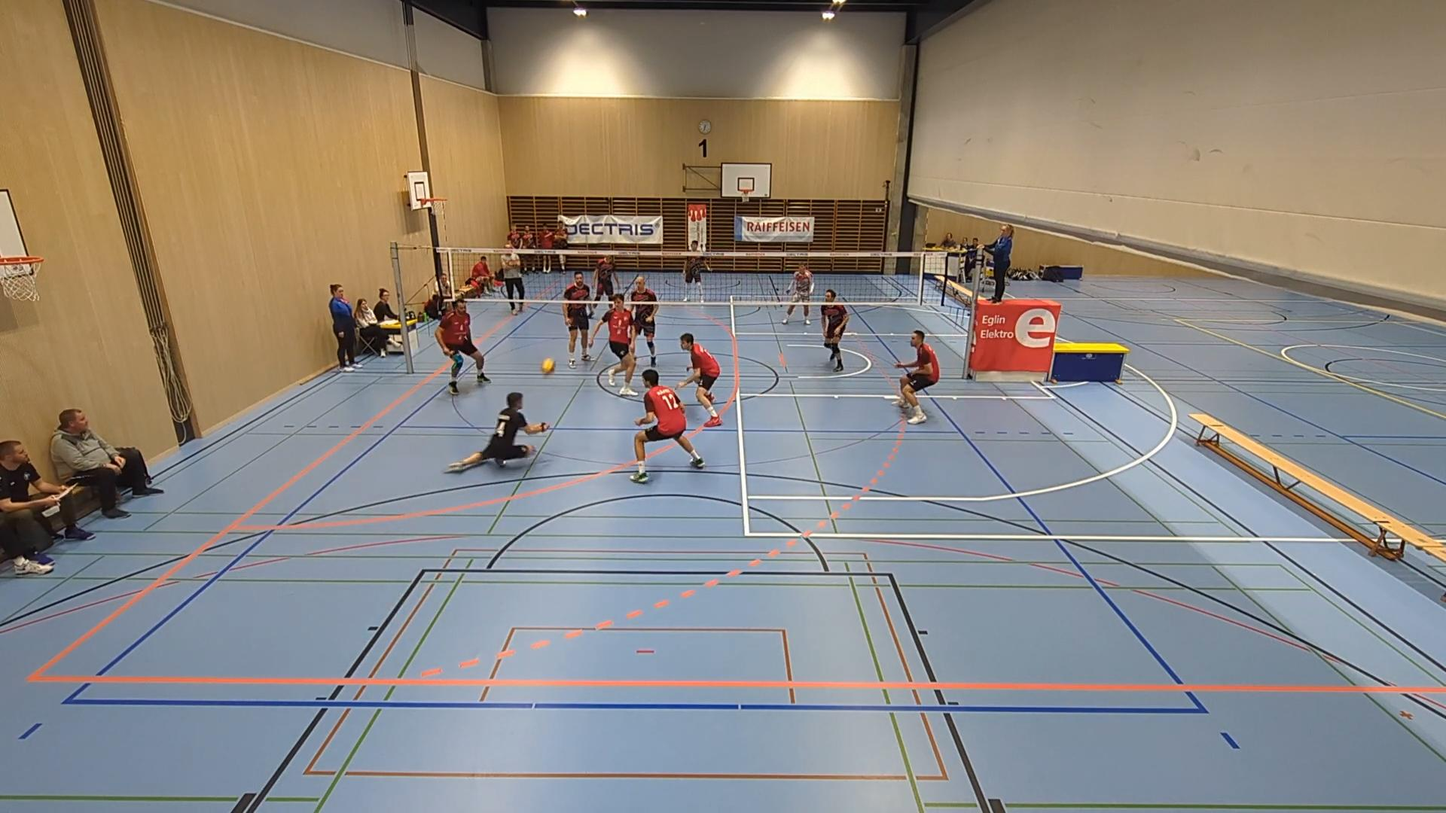Dig: (439, 390, 557, 478)
Player: (630, 370, 703, 483), (435, 300, 489, 394), (592, 294, 636, 395), (895, 330, 939, 423), (678, 333, 721, 426), (563, 271, 590, 367), (630, 276, 657, 367), (820, 289, 849, 372), (782, 266, 813, 324), (684, 254, 709, 302), (593, 256, 615, 301)
ball: (540, 359, 554, 374)
